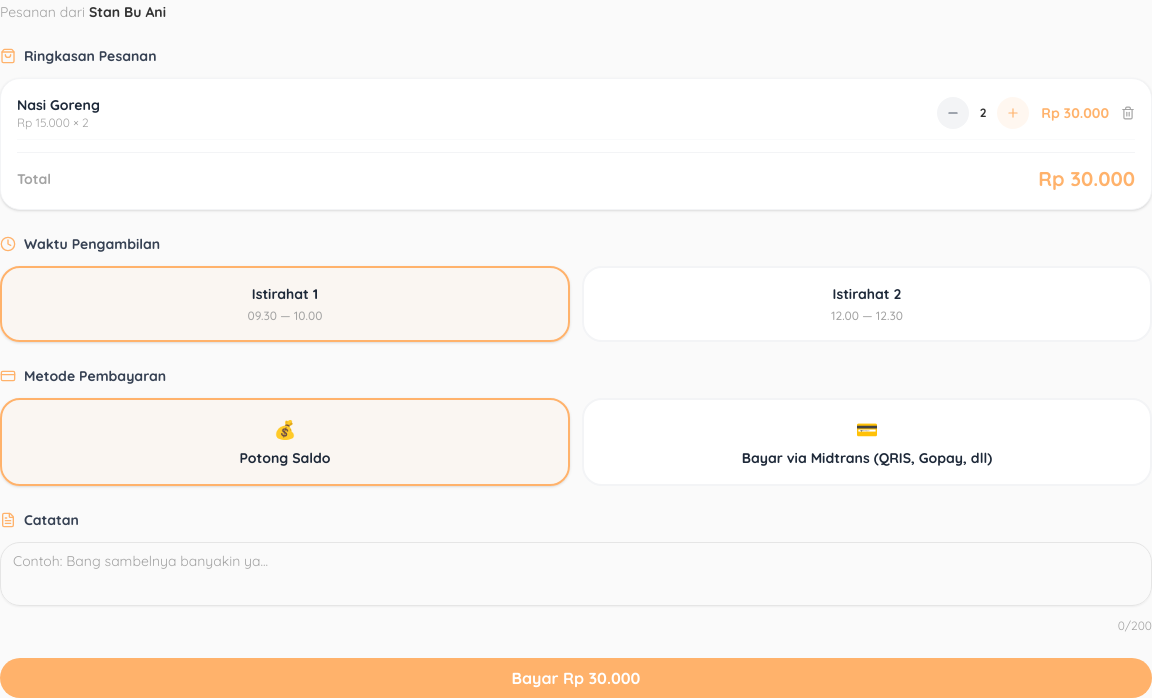
Scenario: CheckoutForm › shows loading state while submitting
Click the button "Bayar Rp 30.000": x=576, y=678 0,658 -> 1151,697
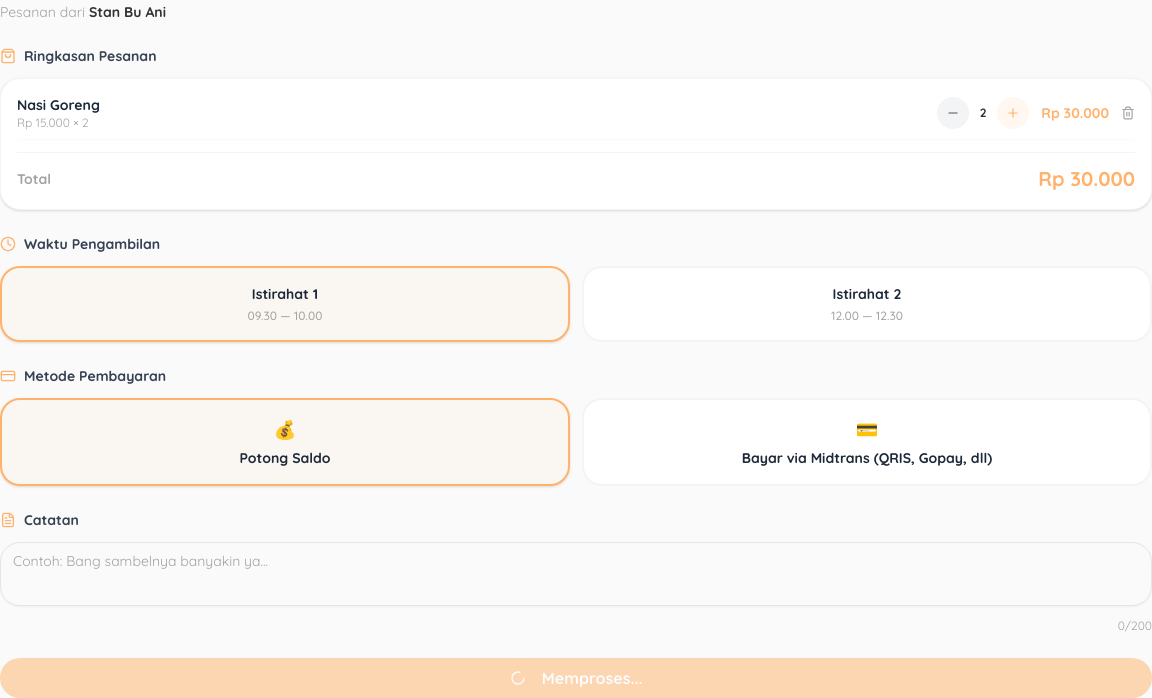
Check: the button "Memproses..." is shown, box 0,658 -> 1151,697
